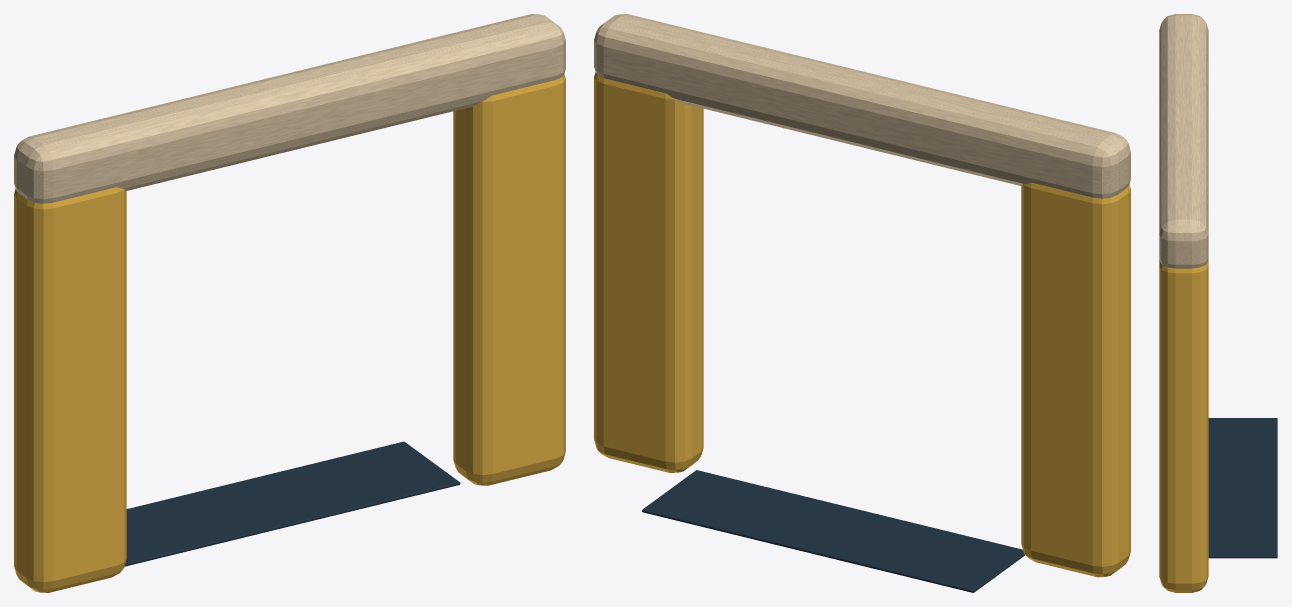
The model's file is entry-portal.glb.
The picture shows the model from 3 angles, left to right: view 1: azimuth 30°, elevation 25°; view 2: azimuth 150°, elevation 25°; view 3: azimuth 270°, elevation 25°; orthographic projection. The views are drawn at different scales.
Visible parts, largest first — view 1: Entry left pier, Entry right pier, Entry lintel, Entry threshold; view 2: Entry left pier, Entry right pier, Entry lintel, Entry threshold; view 3: Entry right pier, Entry lintel, Entry threshold.
Part boxes in pixels (<box>): Entry left pier: <box>14,187,126,592</box>; Entry right pier: <box>453,74,565,485</box>; Entry lintel: <box>14,14,565,203</box>; Entry threshold: <box>124,441,460,566</box>; Entry left pier: <box>1021,182,1130,577</box>; Entry right pier: <box>594,72,703,472</box>; Entry lintel: <box>594,14,1130,198</box>; Entry threshold: <box>642,470,1024,592</box>; Entry right pier: <box>1159,258,1208,592</box>; Entry lintel: <box>1159,14,1208,268</box>; Entry threshold: <box>1208,418,1277,558</box>.
Size of the model in its own units: 4.4 by 3.5 by 1.01.
Materials: 3 (1 with a texture image).
